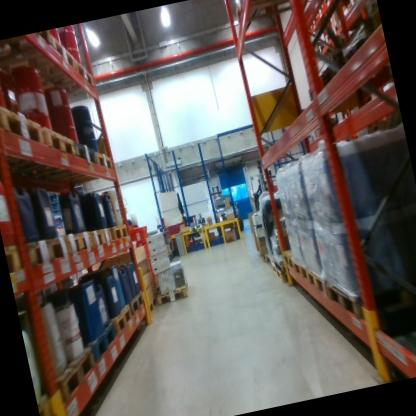forklift: (243, 154, 279, 217), (210, 185, 230, 209)
pallet: (321, 256, 416, 336), (5, 47, 99, 112), (231, 0, 347, 38), (0, 34, 80, 87), (0, 90, 49, 163), (43, 350, 102, 409), (38, 118, 78, 169), (22, 231, 70, 270), (79, 322, 122, 363), (0, 28, 57, 56), (70, 125, 100, 174), (153, 278, 194, 309), (63, 224, 95, 262), (105, 301, 136, 335), (3, 240, 29, 277), (302, 260, 326, 297), (122, 289, 148, 322), (286, 251, 309, 284), (88, 220, 113, 249), (94, 144, 117, 175), (35, 388, 60, 416), (269, 253, 289, 286), (142, 291, 163, 319), (109, 219, 132, 244), (282, 246, 300, 271), (325, 19, 344, 39), (311, 41, 328, 58), (263, 250, 274, 270), (345, 0, 361, 13), (256, 248, 266, 263), (324, 33, 333, 48), (322, 0, 334, 9)
pallet_truck: (195, 209, 208, 230)
